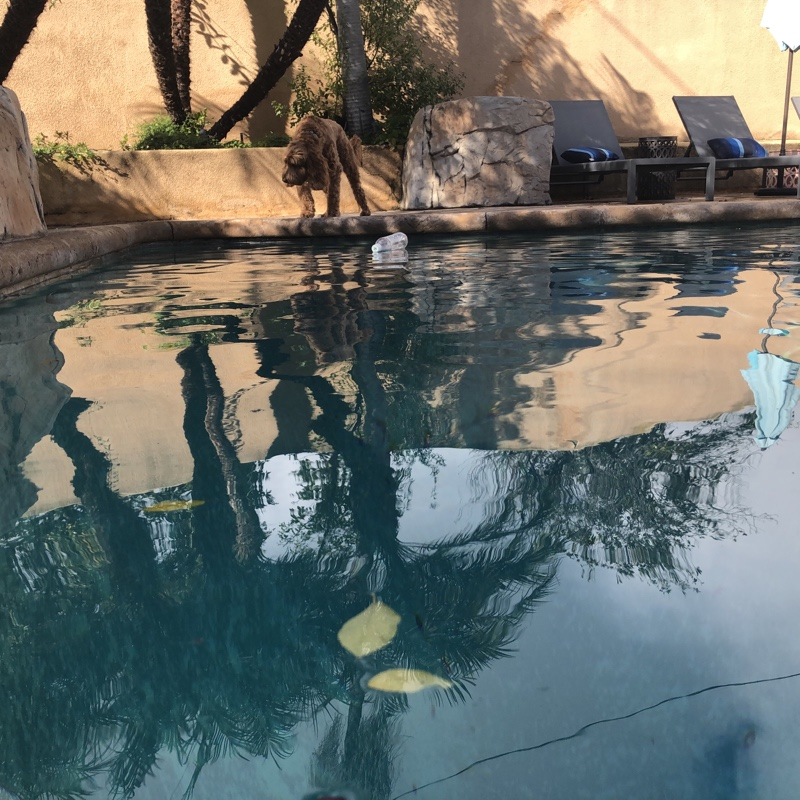Plastic Bottle: (367, 229, 410, 256)
